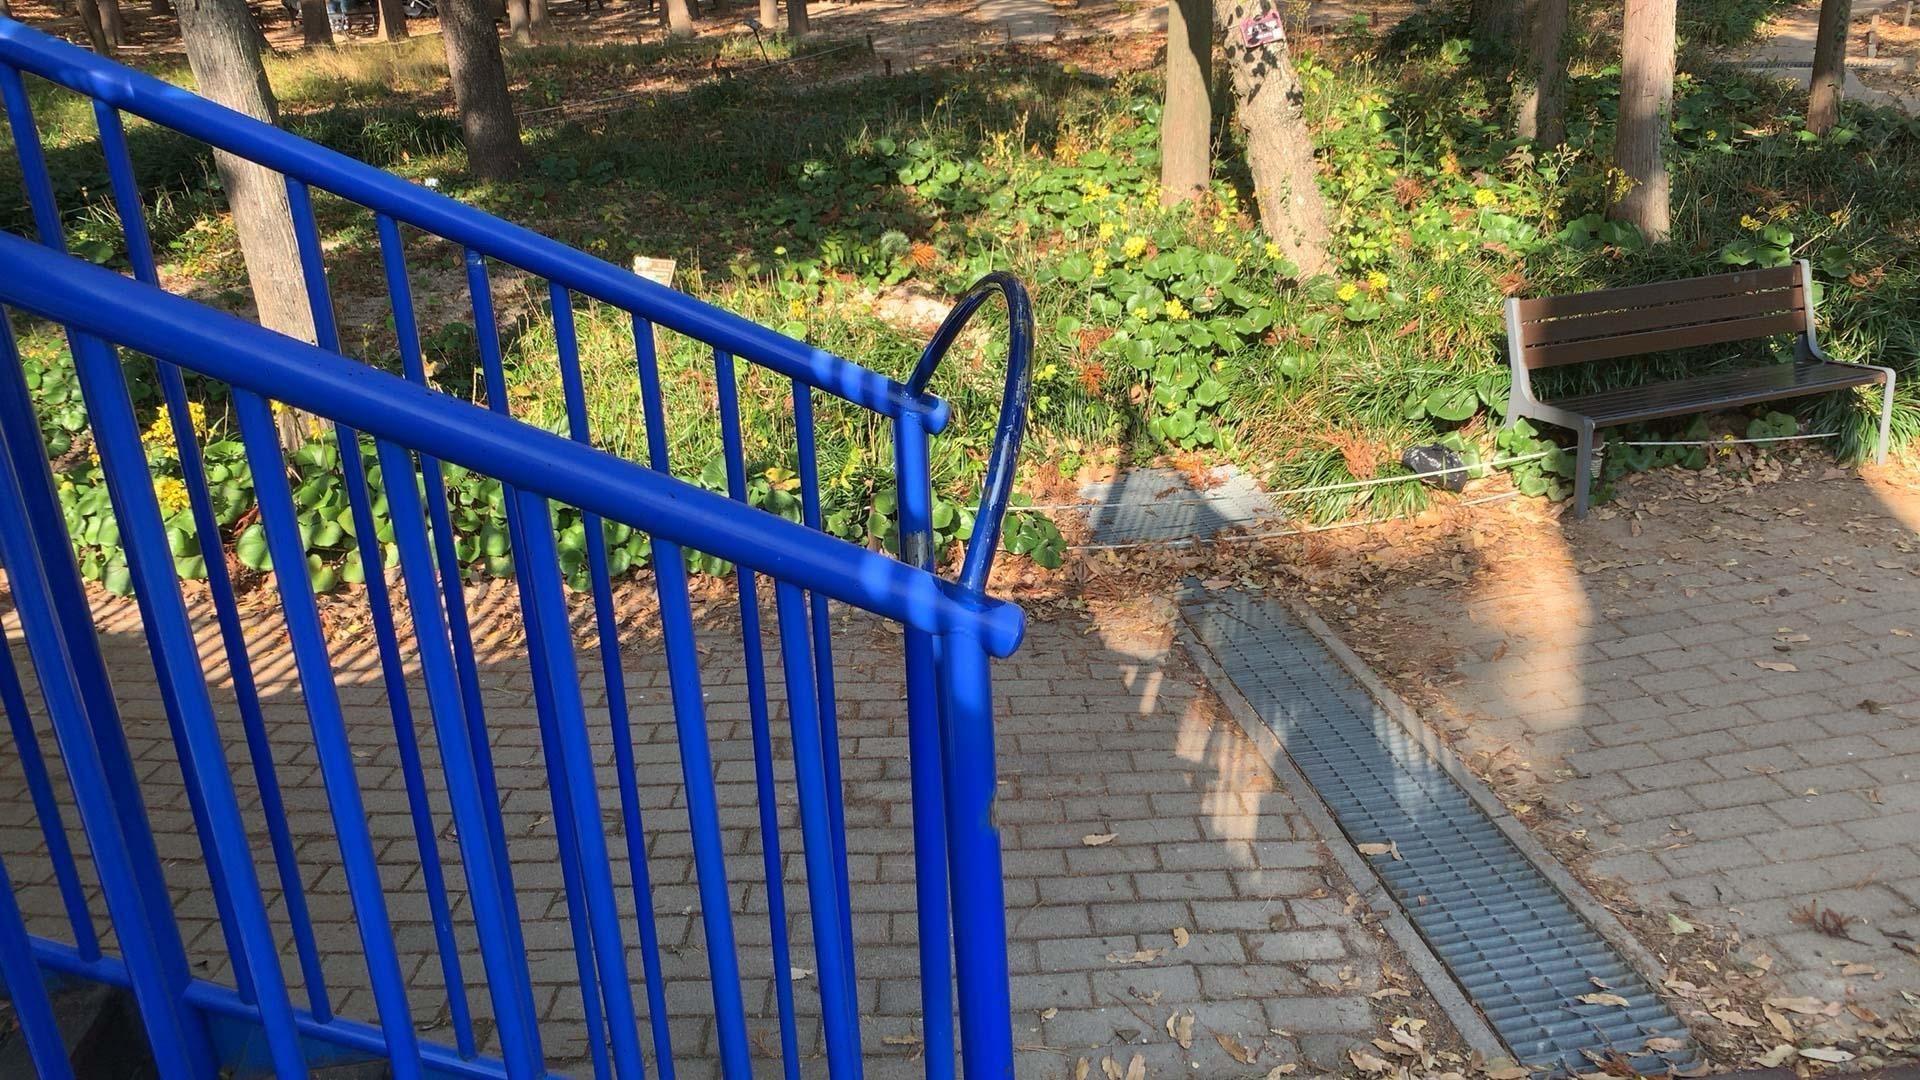black_bag: (1399, 439, 1473, 493)
